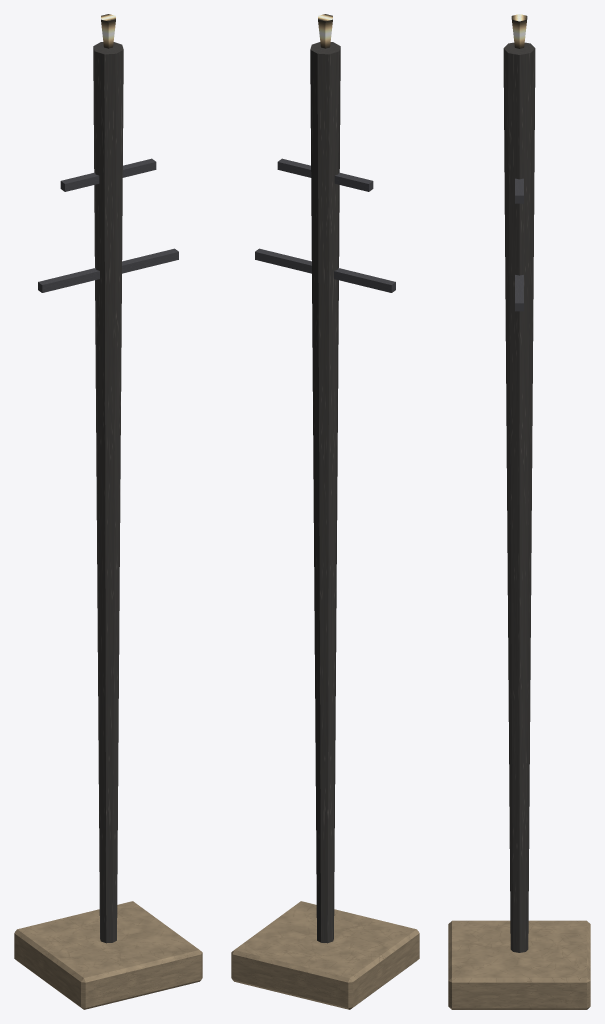
File: prop_antenna_mast.obj
The picture shows the model from 3 angles, left to right: view 1: azimuth 30°, elevation 25°; view 2: azimuth 150°, elevation 25°; view 3: azimuth 270°, elevation 25°; orthographic projection.
Visible parts, largest first — view 1: prop_antenna_mast; view 2: prop_antenna_mast; view 3: prop_antenna_mast.
Boxes of the visible parts, x1,y1,x2,y2 form: prop_antenna_mast: [14, 14, 202, 1009]; prop_antenna_mast: [231, 14, 419, 1009]; prop_antenna_mast: [448, 14, 590, 1009].
Bounding box in the file's own units: 0.9 × 5.99 × 0.8.
Materials: 1 (1 with a texture image).
